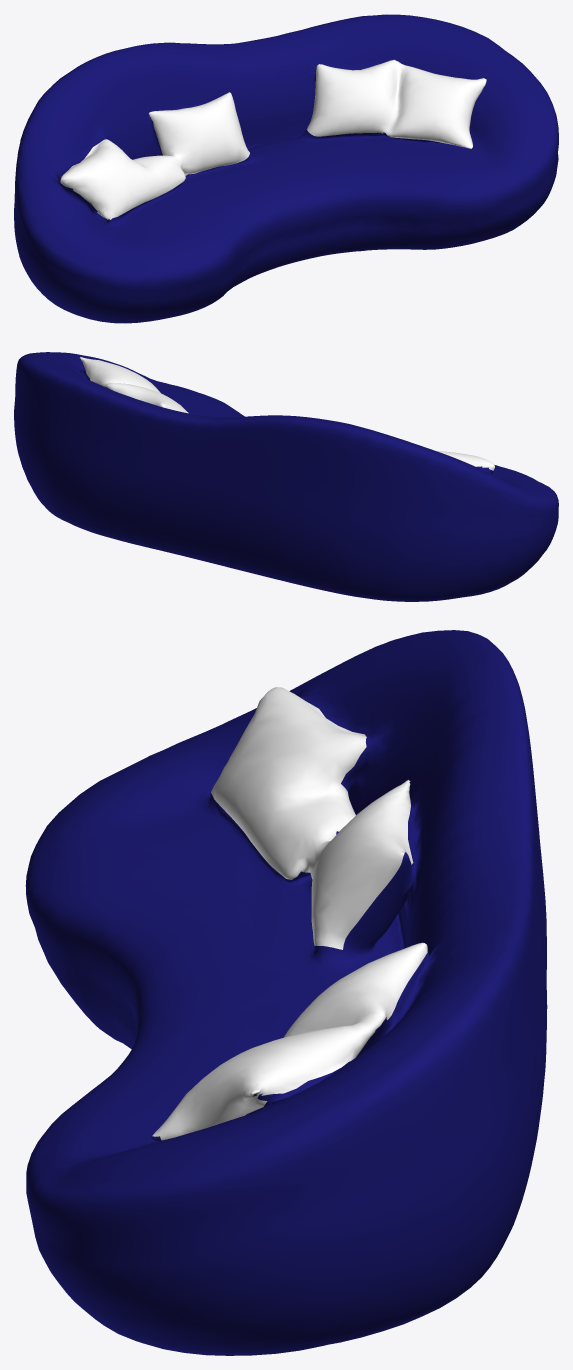
File: furniture_1.glb
3 renders of one model, top to bottom at view 1: azimuth 30°, elevation 25°; view 2: azimuth 150°, elevation 25°; view 3: azimuth 270°, elevation 25°, orthographic. The views are drawn at different scales.
Parts seen in each view (by area): view 1: Mesh1; view 2: Mesh1; view 3: Mesh1.
Boxes of the visible parts, box(x1,y1,x2,y2) form: Mesh1: box(14, 14, 558, 323); Mesh1: box(14, 352, 558, 601); Mesh1: box(25, 630, 547, 1355).
Bounding box in the file's own units: 4.68 × 1.58 × 2.06.
